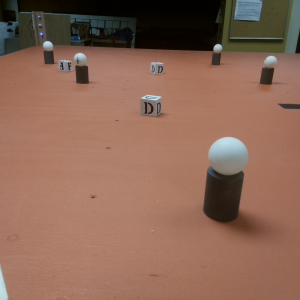blockA: (58, 61, 72, 73)
blockD: (139, 94, 165, 115), (150, 61, 165, 74)
corner: (30, 12, 46, 45)
obstacle: (201, 134, 248, 225), (73, 52, 89, 83), (261, 54, 275, 83), (41, 42, 54, 64), (211, 44, 222, 66)
